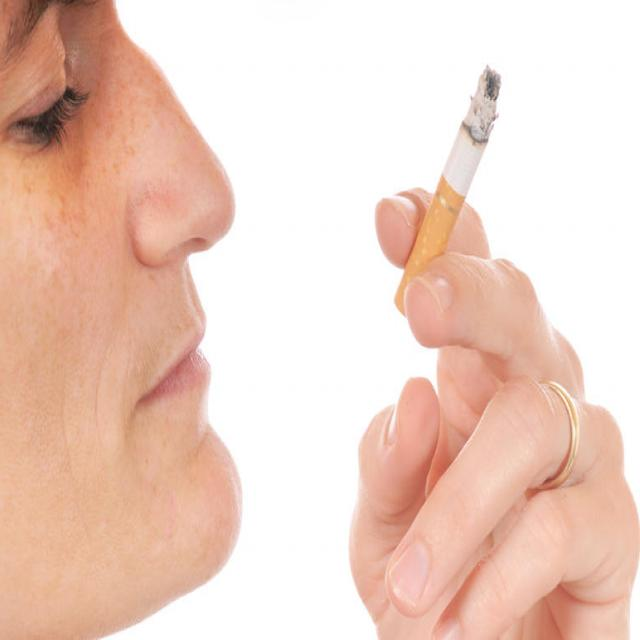smoking: (395, 68, 503, 320)
